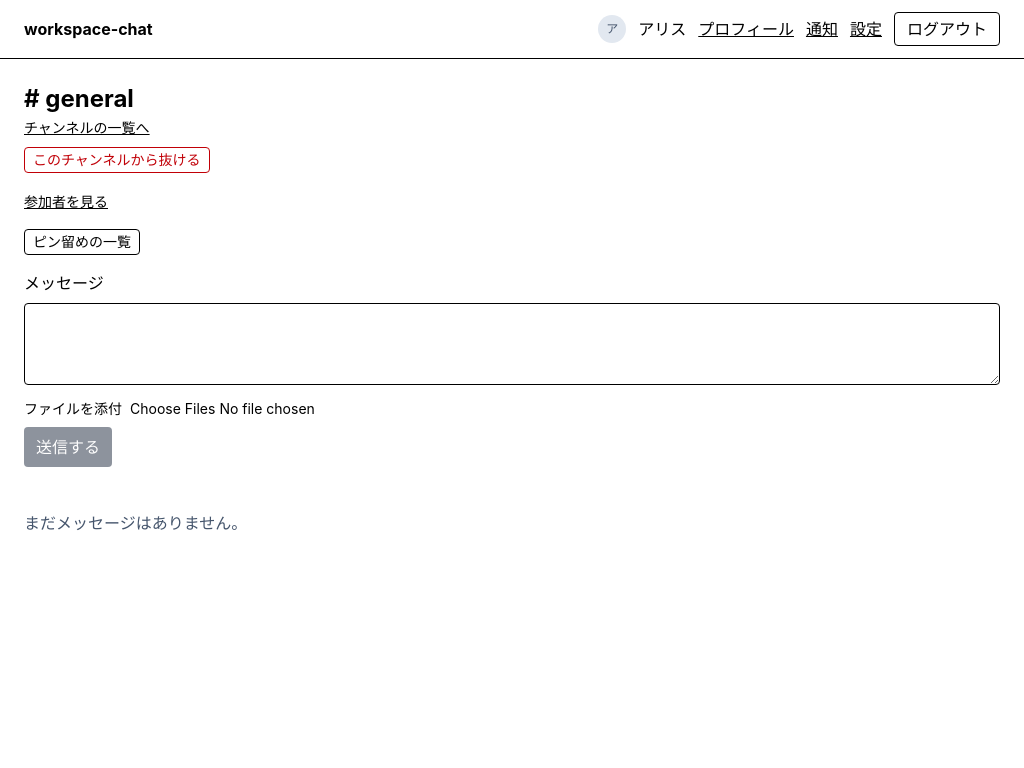
Test case: 参加者の在席の表示（F-22） › 取り直しの時点で繋がっていなければ送らず、繋がり直した後は続けて取り直す。離れたら送らない
Click the button "参加者を見る": click(66, 202) [24,192,108,212]
Wait 600000 ms
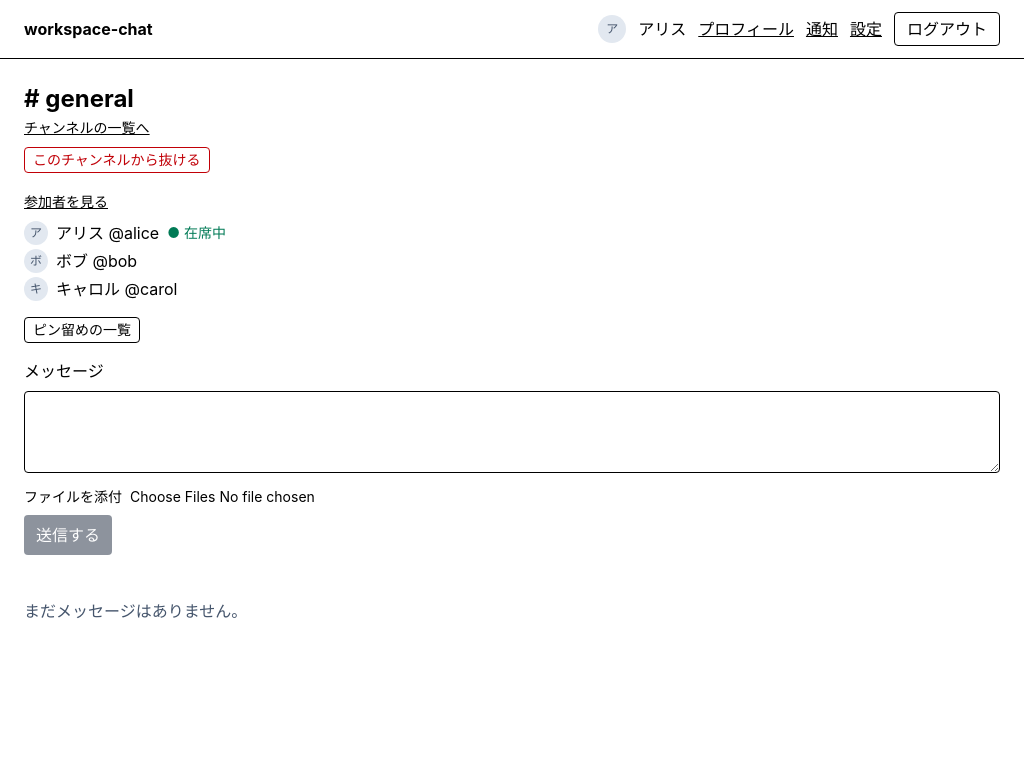
expect the list named "参加者" is shown: met, box [24,221,226,301]
Click the link "チャンネルの一覧へ": click(87, 128) [24,119,150,136]
Wait 300000 ms
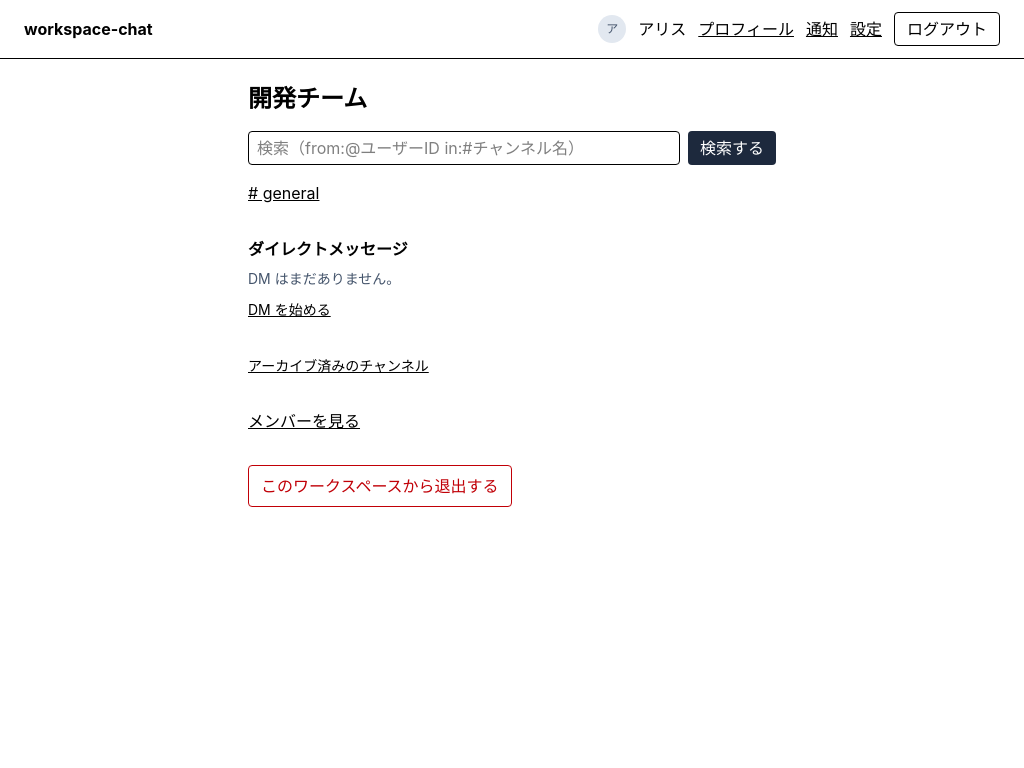
expect the heading "開発チーム" is shown: met, box [248,84,367,113]
